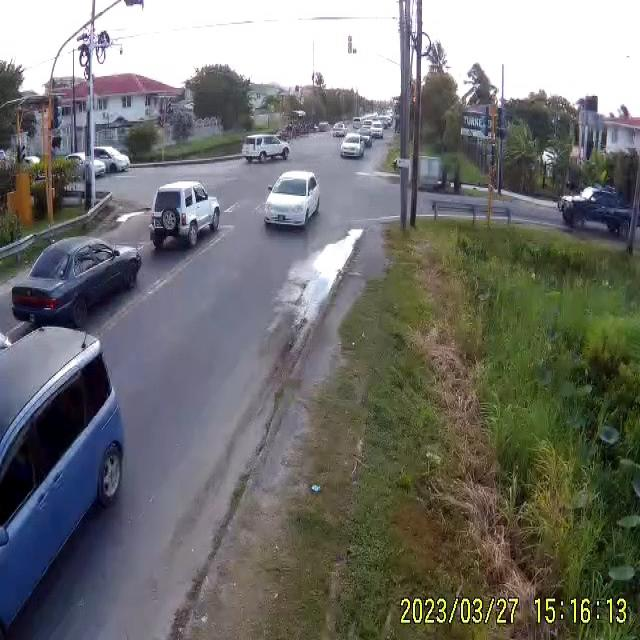car: (0, 321, 127, 634), (10, 238, 142, 333), (149, 182, 221, 250), (264, 170, 322, 228), (561, 190, 633, 233), (241, 133, 290, 161), (93, 147, 130, 175), (339, 134, 364, 158)
